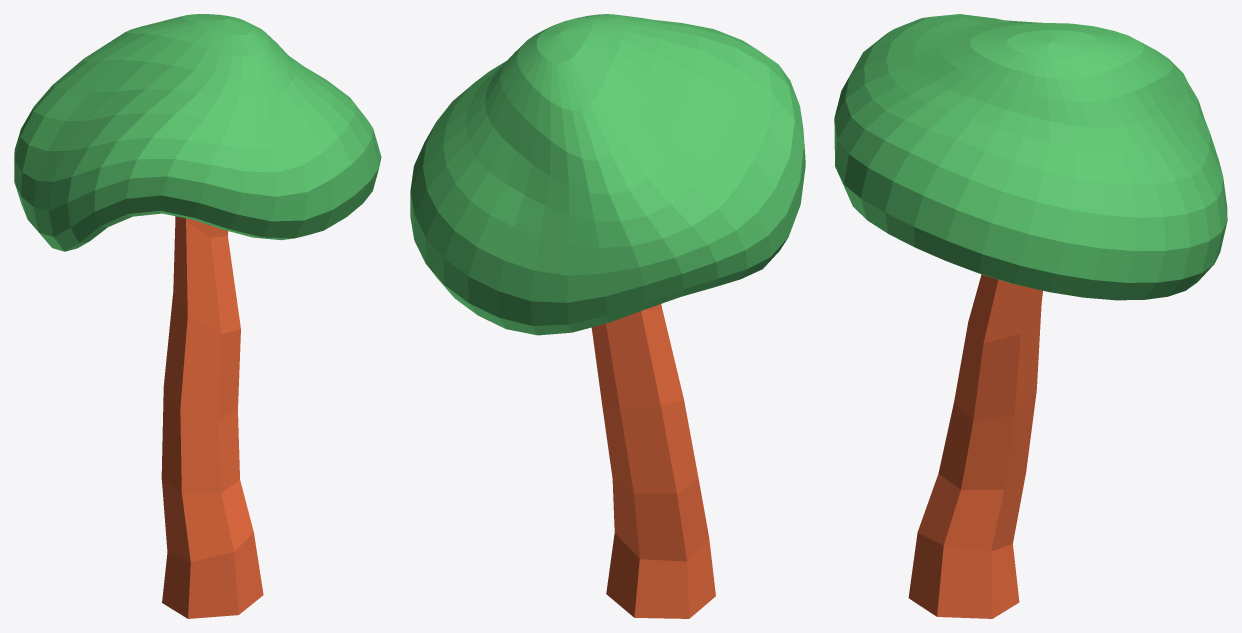
File: Tree02.fbx
3 renders of one model, left to right at view 1: azimuth 30°, elevation 25°; view 2: azimuth 150°, elevation 25°; view 3: azimuth 270°, elevation 25°, orthographic. The views are drawn at different scales.
Parts seen in each view (by area): view 1: Circle.010; view 2: Circle.010; view 3: Circle.010.
Boxes of the visible parts, x1=… form: Circle.010: x1=14, y1=14, x2=381, y2=618; Circle.010: x1=410, y1=14, x2=805, y2=618; Circle.010: x1=834, y1=14, x2=1227, y2=618.
Size of the model in its own units: 1632 by 2662 by 1605.
